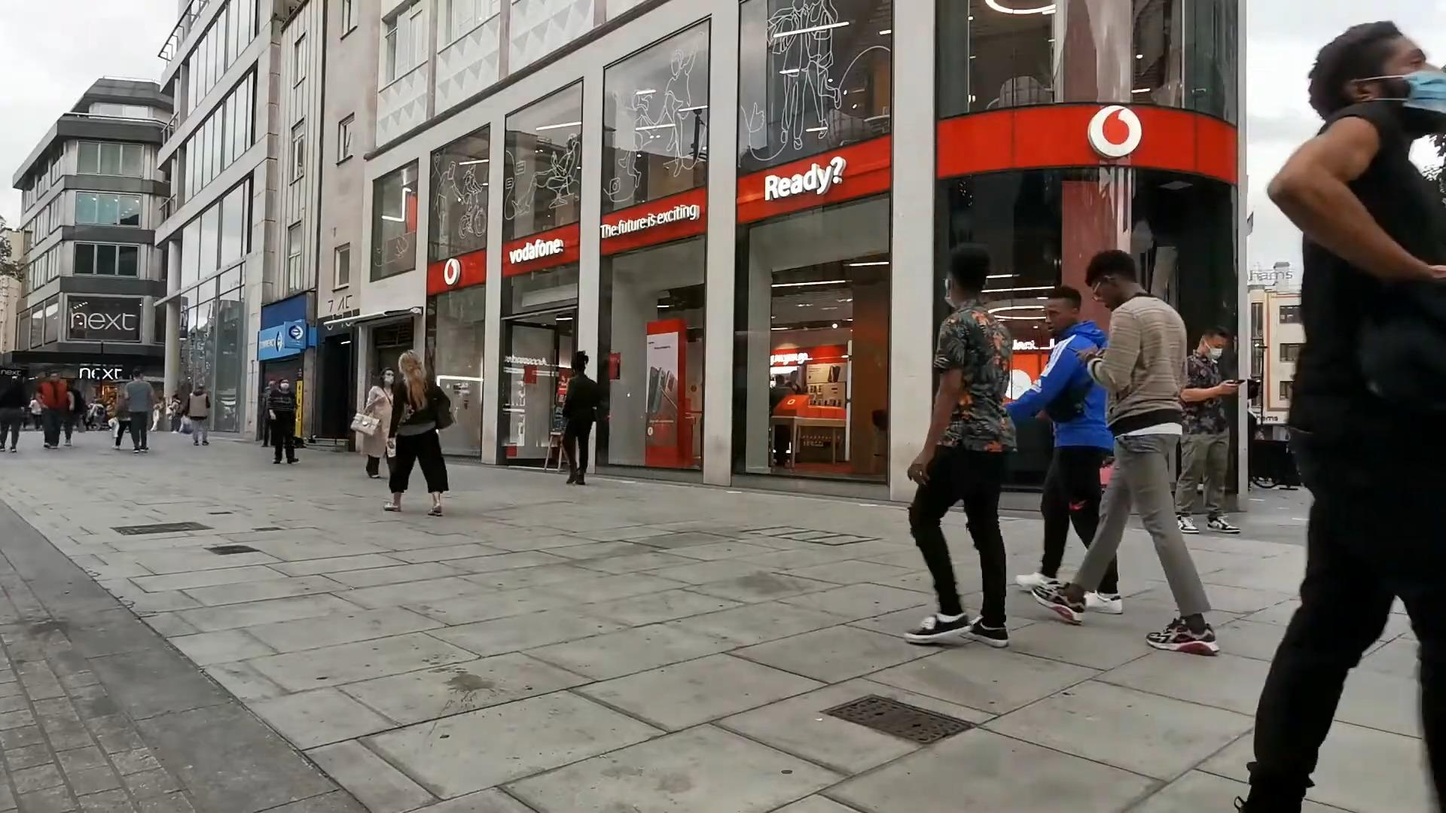no-helmet: (1308, 20, 1446, 140), (1085, 249, 1148, 312), (942, 242, 990, 311), (1045, 284, 1082, 336), (1196, 325, 1230, 365), (399, 350, 427, 390), (379, 367, 395, 388), (278, 378, 290, 392)
